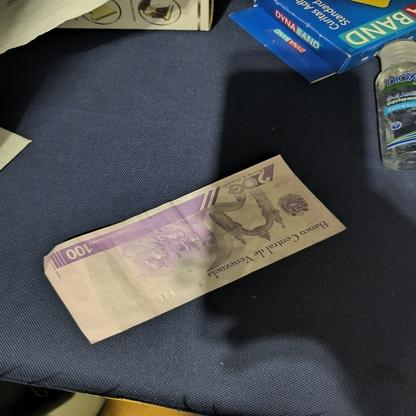one_hundred-back-vef: (42, 152, 347, 345)
